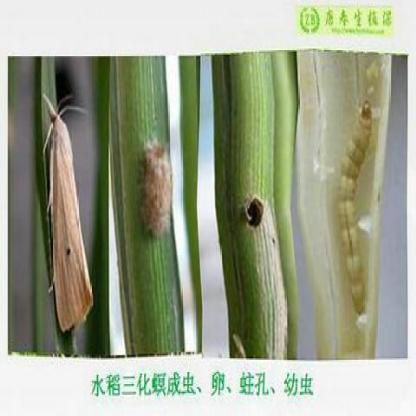stem-borer: (39, 90, 94, 336)
